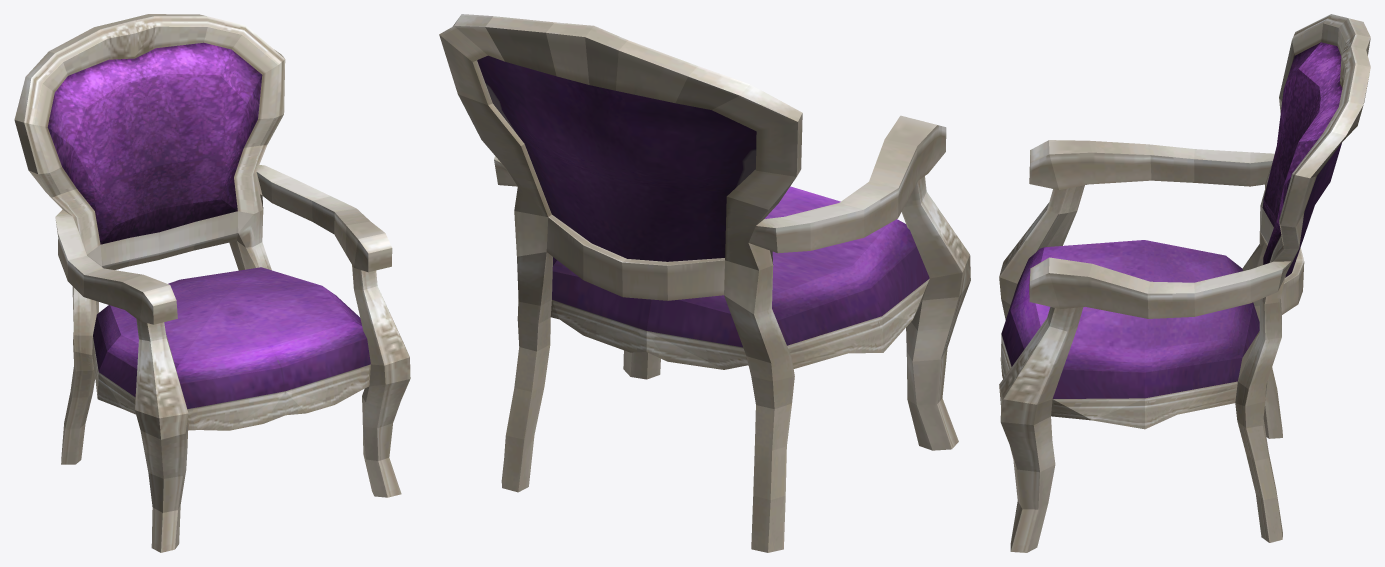
Rendered from furni_0201111_01.FBX.
3 views of the same model, side by side, from view 1: azimuth 30°, elevation 25°; view 2: azimuth 150°, elevation 25°; view 3: azimuth 270°, elevation 25° (orthographic). The views are drawn at different scales.
Parts seen in each view (by area): view 1: furni_0201111_01; view 2: furni_0201111_01; view 3: furni_0201111_01.
Boxes of the visible parts, left/top/right/bottom form: furni_0201111_01: left=14, top=14, right=410, bottom=552; furni_0201111_01: left=439, top=14, right=970, bottom=552; furni_0201111_01: left=999, top=14, right=1370, bottom=552.
Bounding box in the file's own units: 74.31 × 102 × 78.08.
1 material, 1 textured.
